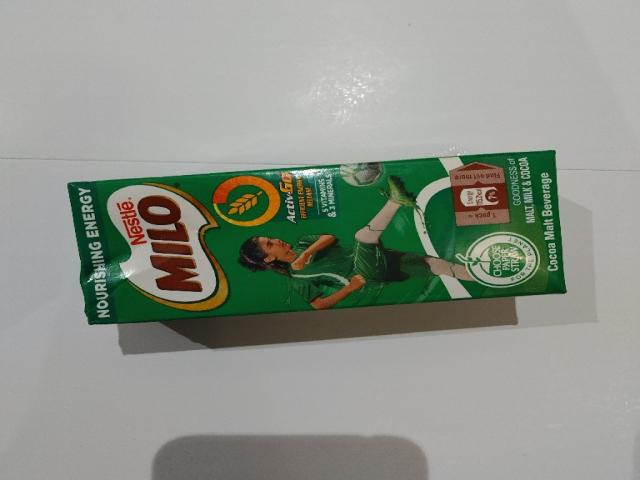drink_box: (68, 151, 566, 324)
